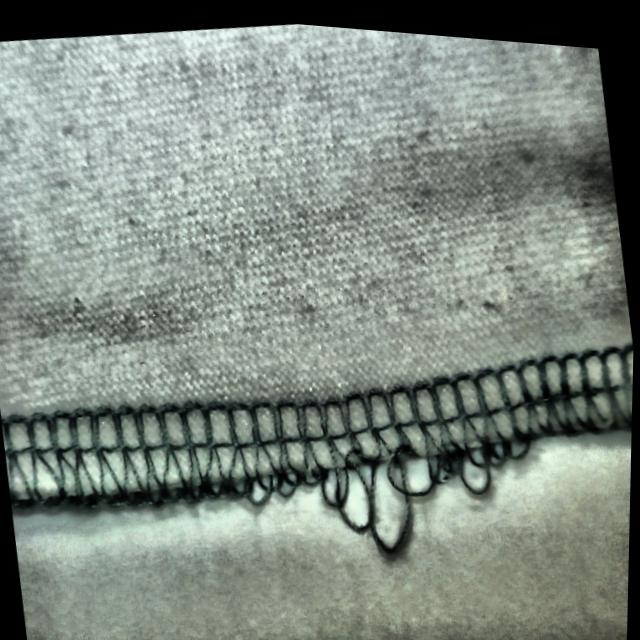Stitch: (220, 329, 548, 580)
